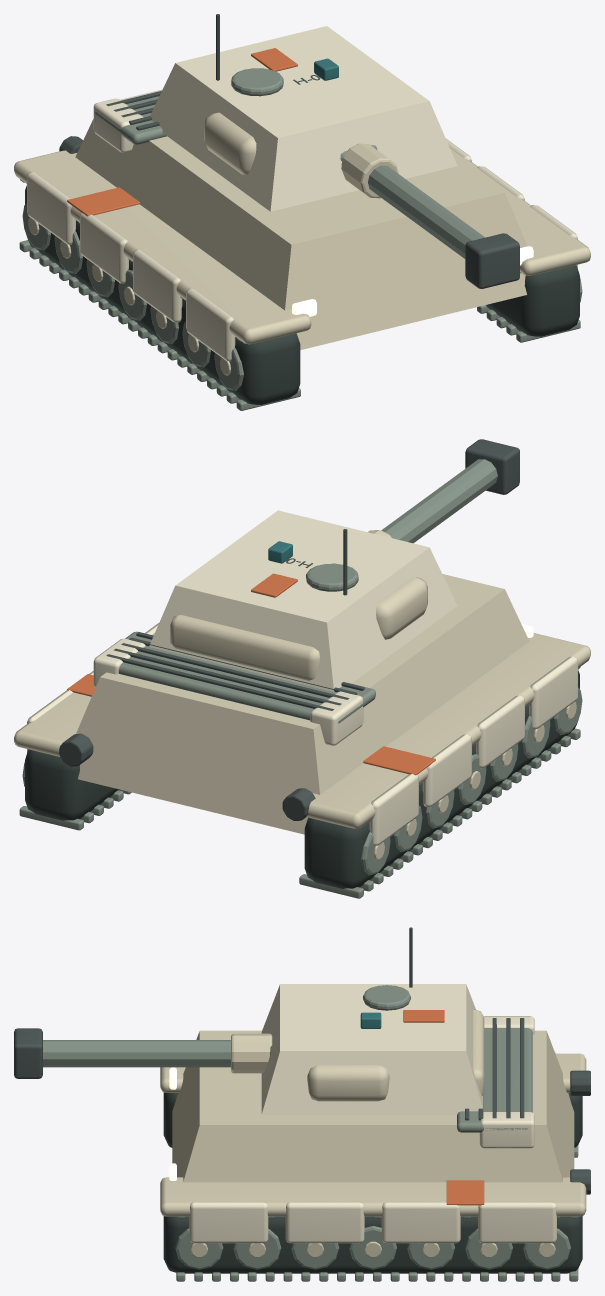
The model's file is tank-heavy.glb.
3 renders of one model, top to bottom at view 1: azimuth 30°, elevation 25°; view 2: azimuth 150°, elevation 25°; view 3: azimuth 270°, elevation 25°, orthographic. The views are drawn at different scales.
Visible parts, largest first — view 1: Hull, TurretYaw, LeftTrackAssembly, RightTrackAssembly, GunPitch; view 2: Hull, TurretYaw, LeftTrackAssembly, RightTrackAssembly, GunPitch; view 3: RightTrackAssembly, Hull, TurretYaw, GunPitch, LeftTrackAssembly.
Part boxes in pixels (box(x1,y1,x2,y2)): Hull: box(59, 89, 533, 349); TurretYaw: box(150, 14, 457, 211); LeftTrackAssembly: box(14, 150, 311, 410); RightTrackAssembly: box(446, 138, 590, 342); GunPitch: box(340, 143, 519, 288); Hull: box(59, 574, 533, 834); TurretYaw: box(149, 510, 457, 691); LeftTrackAssembly: box(299, 633, 590, 898); RightTrackAssembly: box(14, 623, 158, 830); GunPitch: box(368, 439, 519, 543); RightTrackAssembly: box(160, 1177, 586, 1281); Hull: box(169, 1016, 590, 1194); TurretYaw: box(261, 927, 484, 1114); GunPitch: box(14, 1028, 272, 1078); LeftTrackAssembly: box(160, 1052, 586, 1157).
Size of the model in its own units: 5.37 by 4.02 by 8.4.
